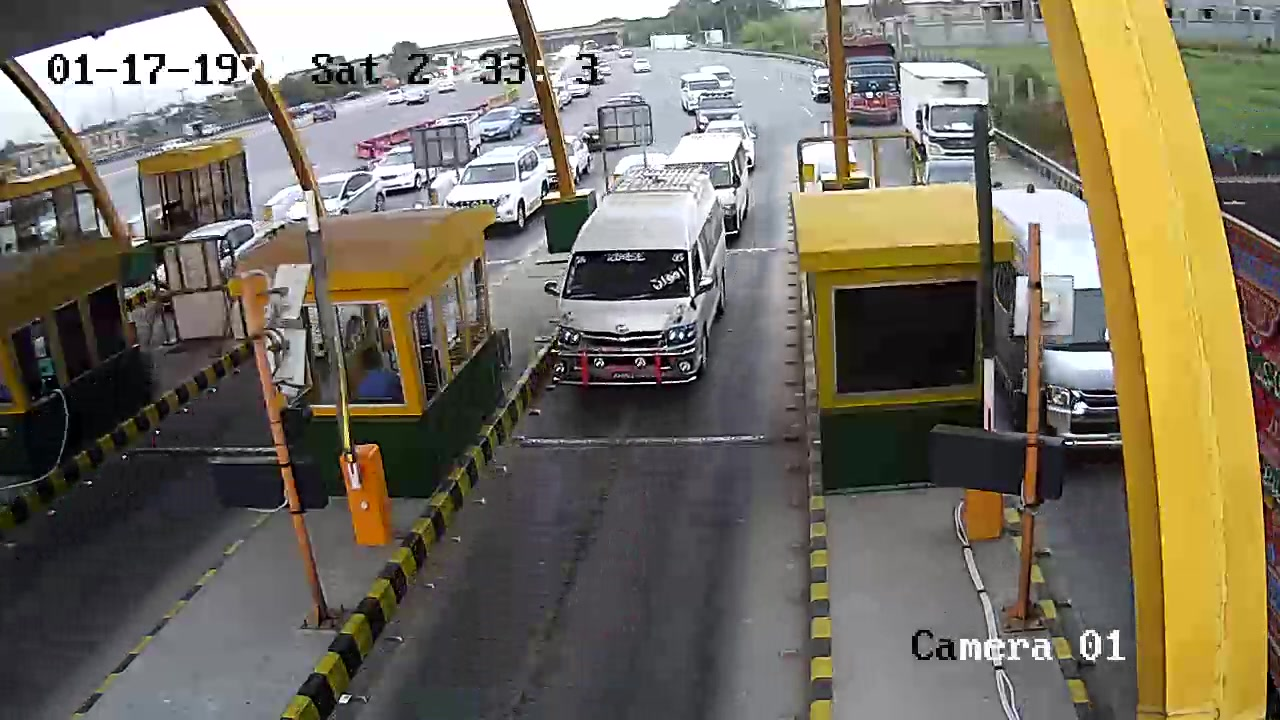F2: (548, 164, 736, 397)
